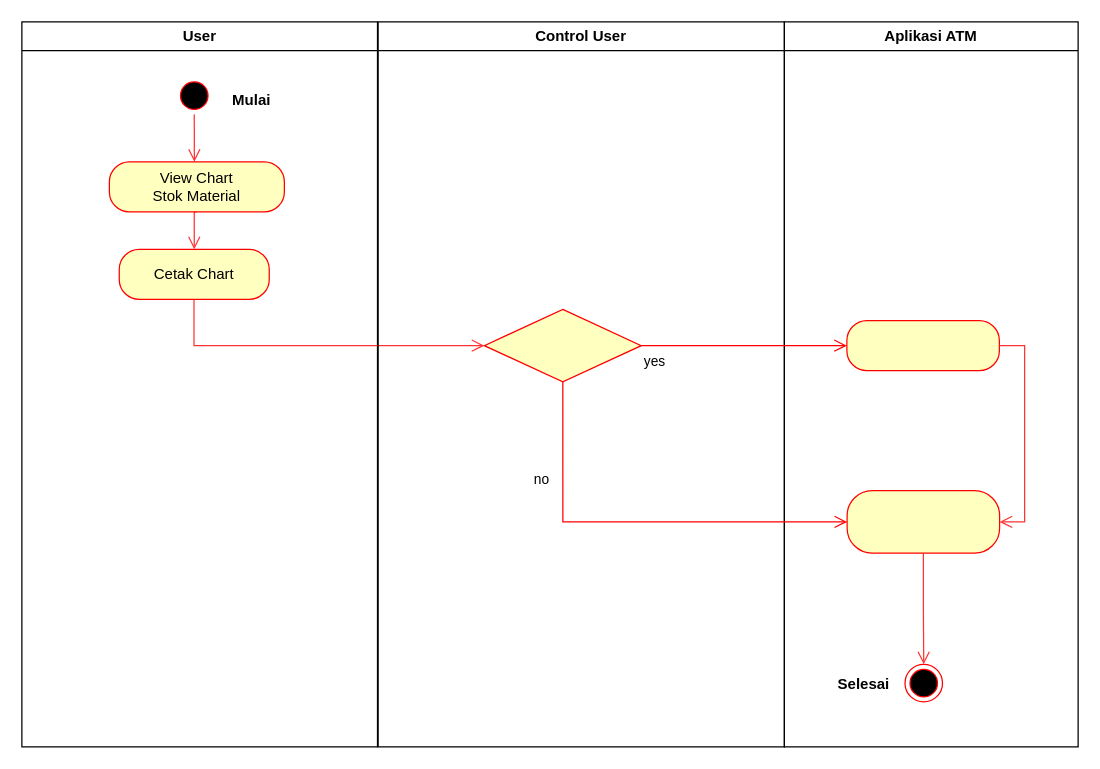
Some shapes in this 1100 by 769 pixel diagram are drawn without their labels. The box of each missing label's shape, as (x1, y1, x2, y2) in pixels:
Cetak: (846, 319, 999, 371)
Menu Chart Stok Material: (846, 489, 1000, 553)
Print pdf: (483, 308, 641, 382)
